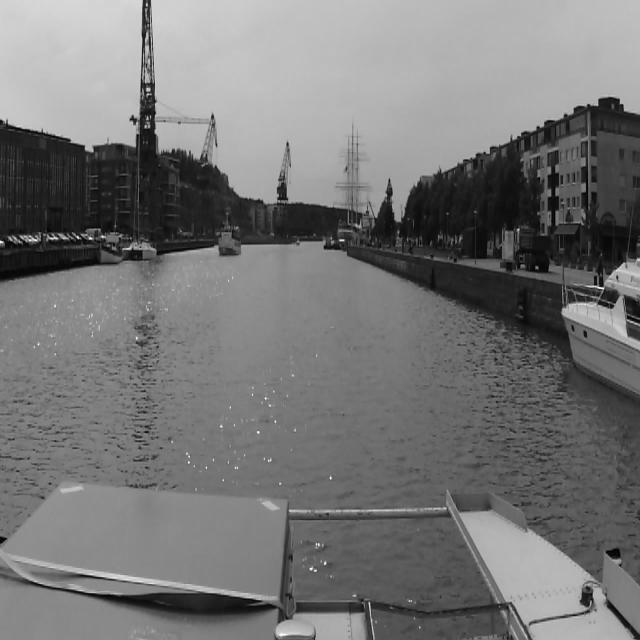ship: (562, 238, 636, 398), (123, 114, 159, 258), (335, 118, 375, 239), (99, 237, 122, 263), (218, 225, 240, 252), (318, 236, 333, 248), (324, 236, 332, 250)
